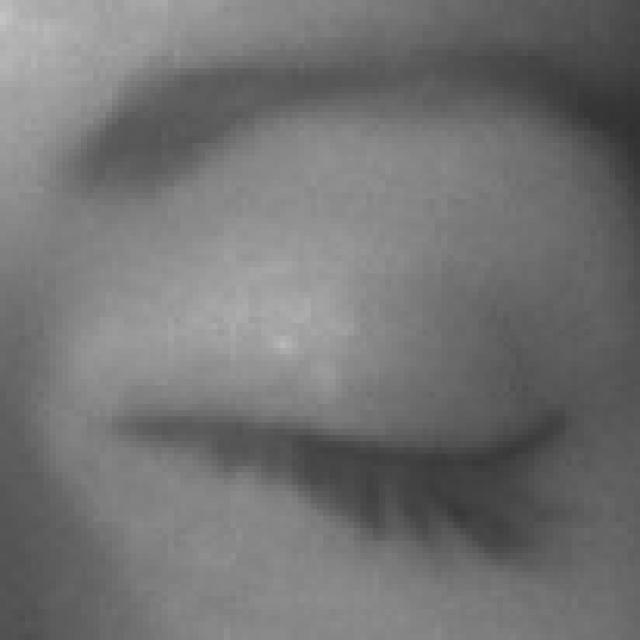Eyeclosed: (127, 241, 563, 640)
